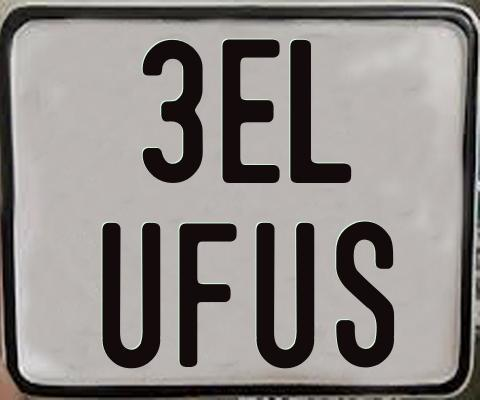3: (142, 38, 203, 187)
E: (220, 39, 281, 186)
F: (179, 220, 240, 367)
L: (288, 38, 349, 184)
S: (334, 221, 393, 373)
U: (100, 222, 163, 373), (256, 222, 321, 368)
